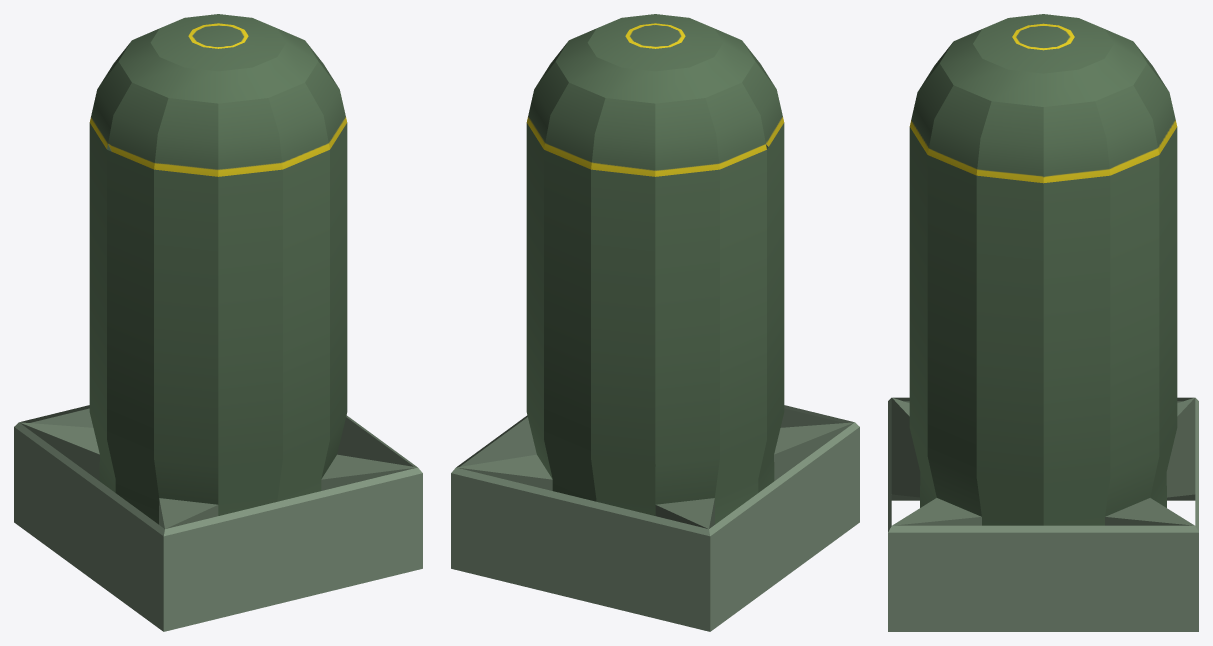
Rendered from atomic bomb.fbx.
3 views of the same model, side by side, from view 1: azimuth 30°, elevation 25°; view 2: azimuth 150°, elevation 25°; view 3: azimuth 270°, elevation 25° (orthographic). The views are drawn at different scales.
Visible parts, largest first — view 1: Cylinder; view 2: Cylinder; view 3: Cylinder.
Boxes of the visible parts, left/top/right/bottom form: Cylinder: left=14, top=14, right=422, bottom=631; Cylinder: left=451, top=14, right=859, bottom=631; Cylinder: left=888, top=14, right=1198, bottom=631.
Size of the model in its own units: 205 by 385 by 205.
